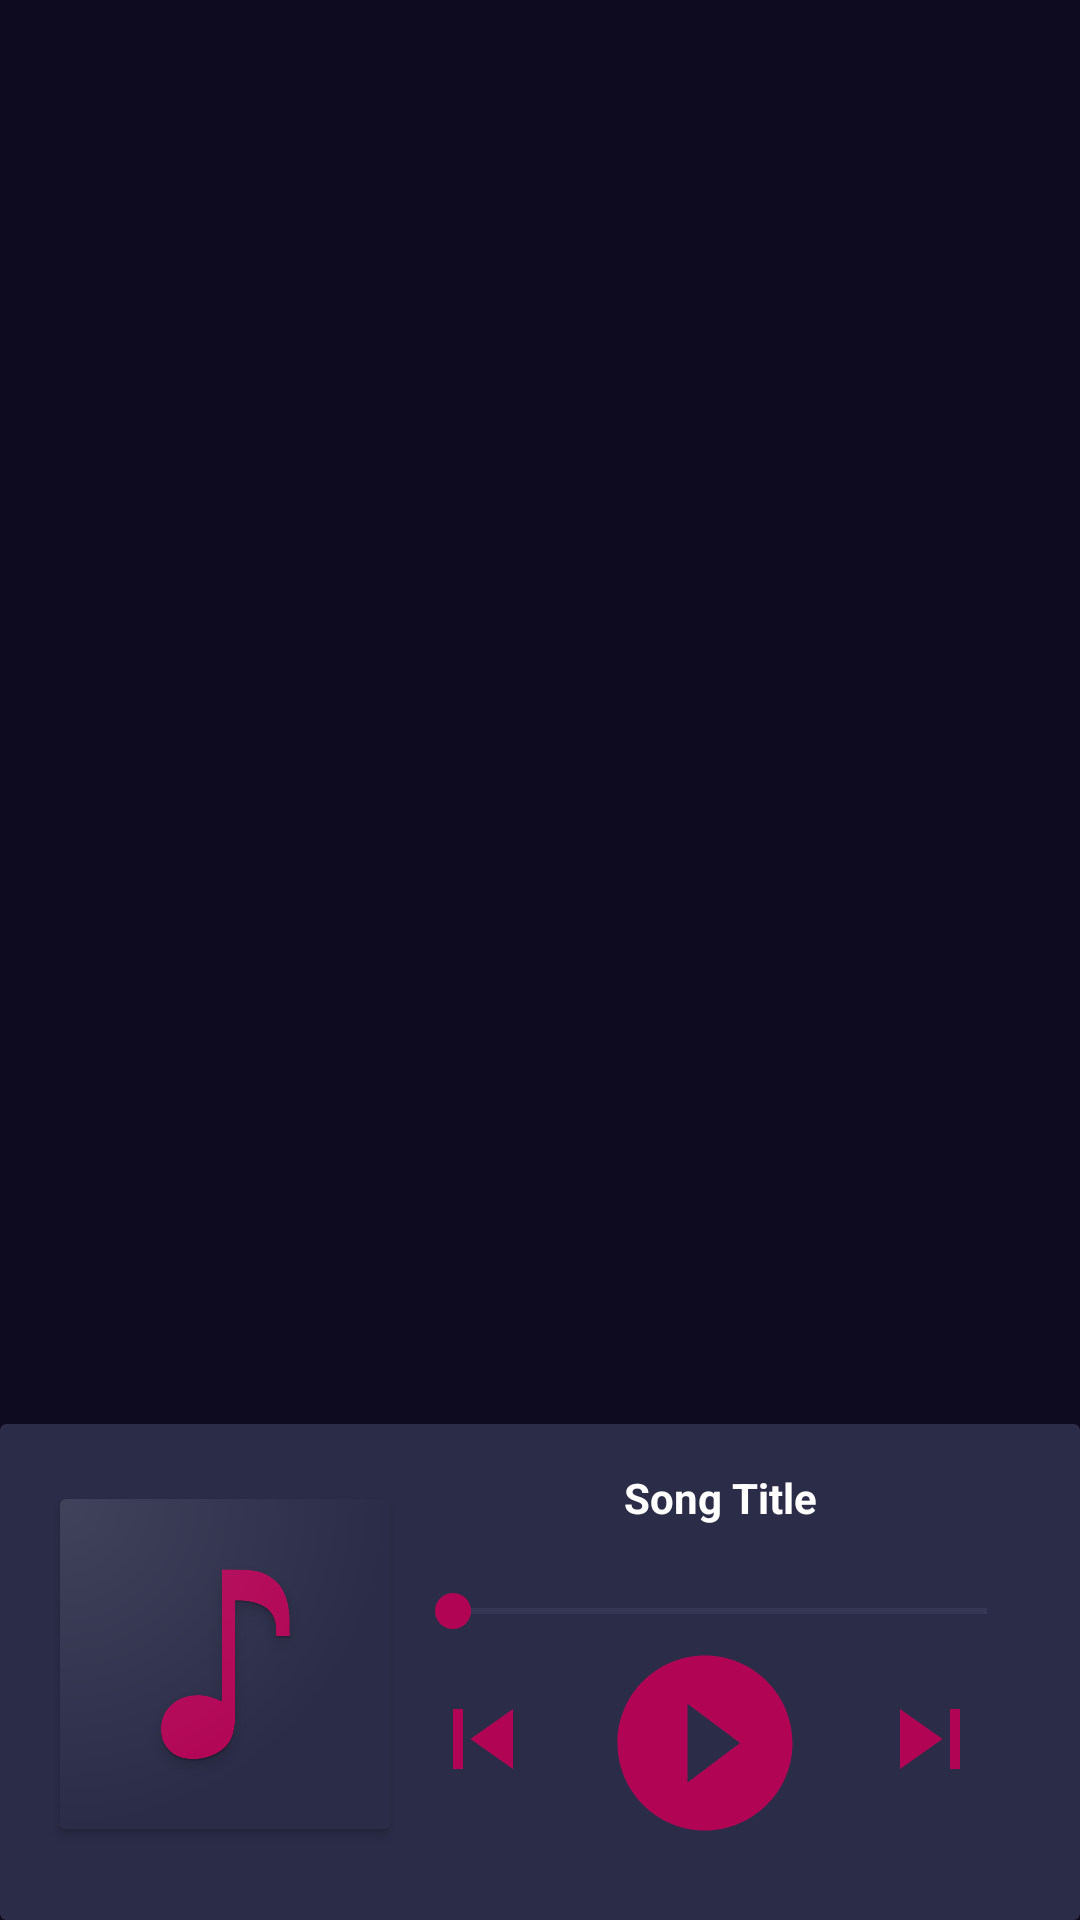

Locate icon controls on the screen. Image size 1080 x 1920, boxes as bbox=[x1, y1, x2, y2].
music: bbox=[161, 1569, 290, 1759]
play circle: bbox=[617, 1655, 793, 1831]
skip next: bbox=[900, 1709, 960, 1769]
skip previous: bbox=[453, 1709, 513, 1769]
